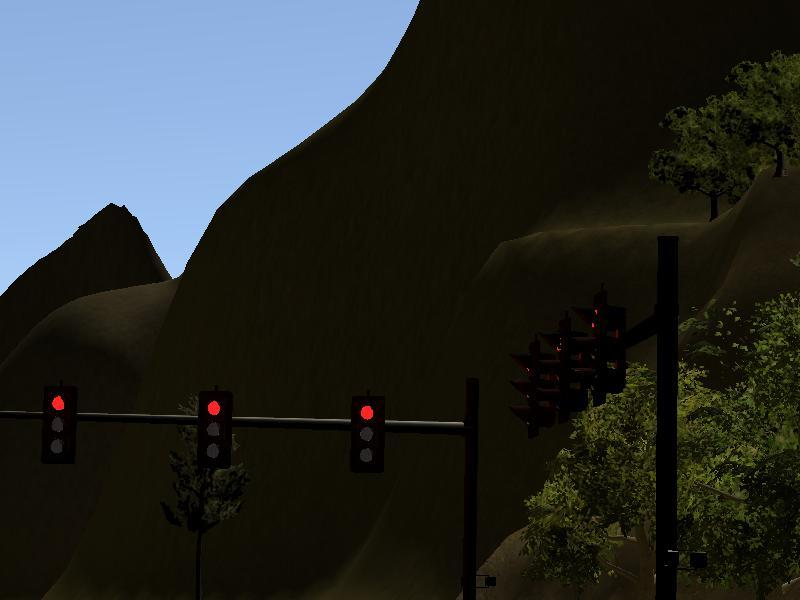Red: (353, 395, 383, 477), (199, 391, 228, 469), (43, 392, 73, 463)
